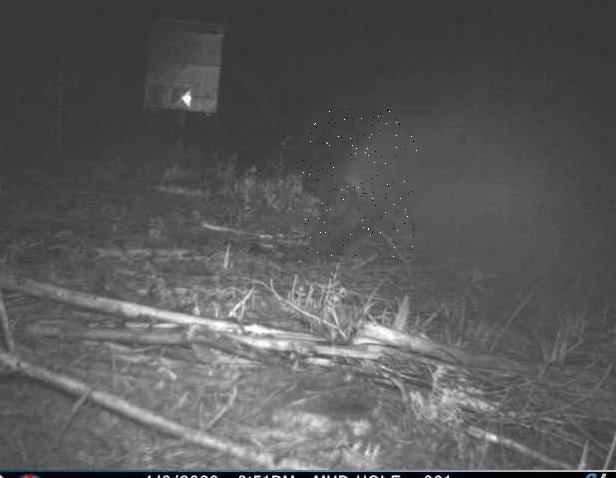Hog: (304, 108, 418, 259)
